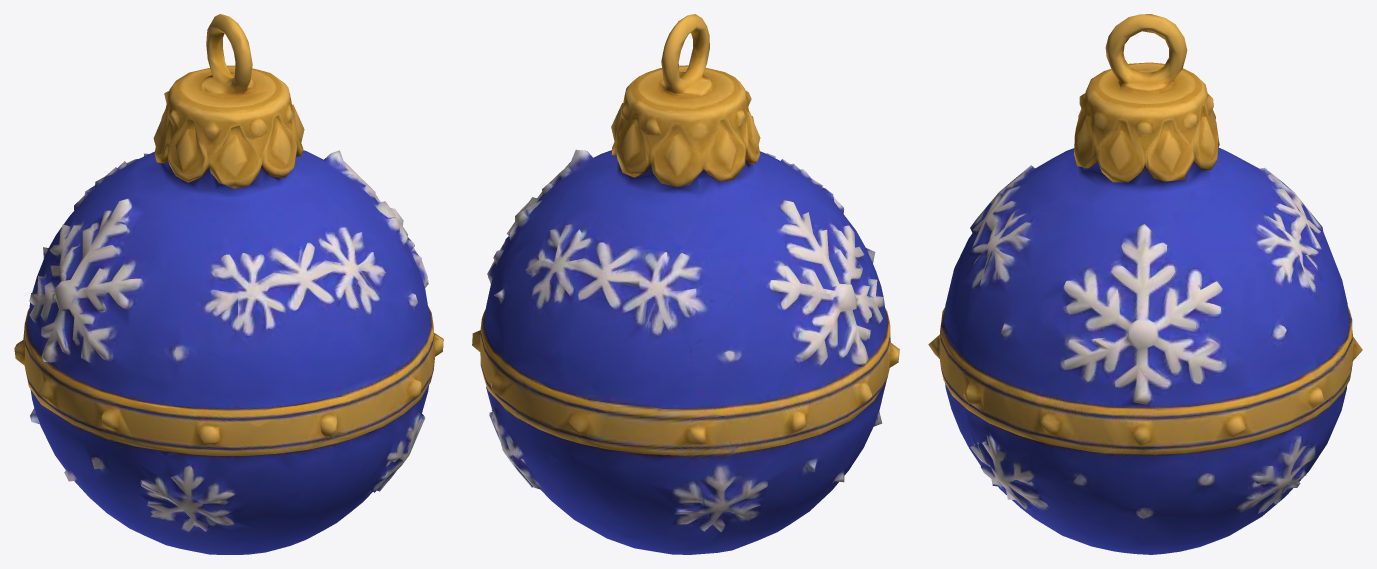
File: orn_ball.glb
3 views of the same model, side by side, from view 1: azimuth 30°, elevation 25°; view 2: azimuth 150°, elevation 25°; view 3: azimuth 270°, elevation 25° (orthographic).
Parts seen in each view (by area): view 1: tripo_node_31617111-9a9a-4b3d-9c92-d6c38c012852; view 2: tripo_node_31617111-9a9a-4b3d-9c92-d6c38c012852; view 3: tripo_node_31617111-9a9a-4b3d-9c92-d6c38c012852.
Part boxes in pixels (x1=…): tripo_node_31617111-9a9a-4b3d-9c92-d6c38c012852: x1=14, y1=14, x2=443, y2=554; tripo_node_31617111-9a9a-4b3d-9c92-d6c38c012852: x1=472, y1=14, x2=899, y2=554; tripo_node_31617111-9a9a-4b3d-9c92-d6c38c012852: x1=928, y1=14, x2=1362, y2=554.
Size of the model in its own units: 0.7542 by 1 by 0.7523.
Materials: 1 (1 with a texture image).
